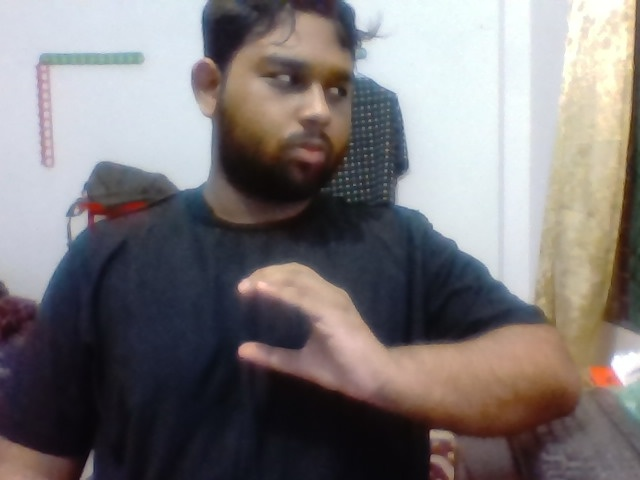C: (222, 251, 405, 414)
